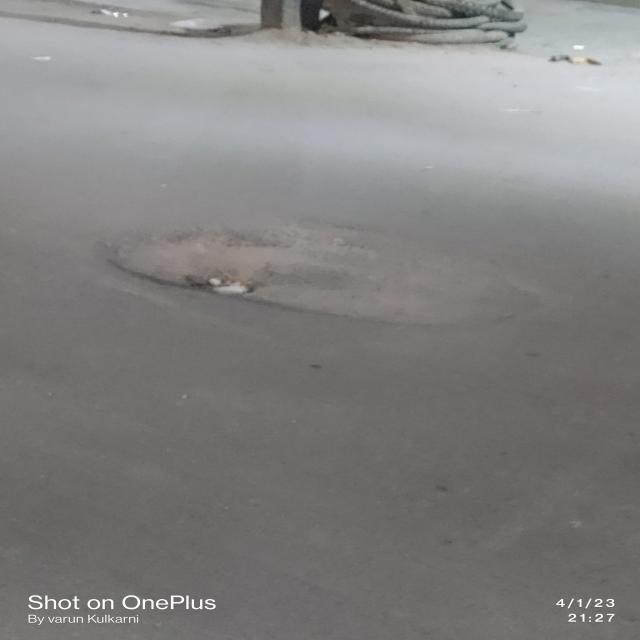potholes: (81, 206, 601, 362)
